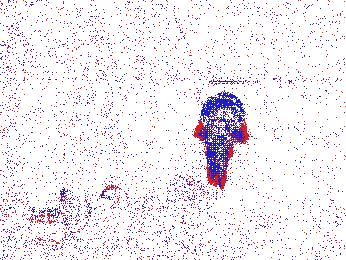flame jellyfish: (198, 93, 248, 189), (46, 186, 90, 236), (87, 184, 132, 231)
